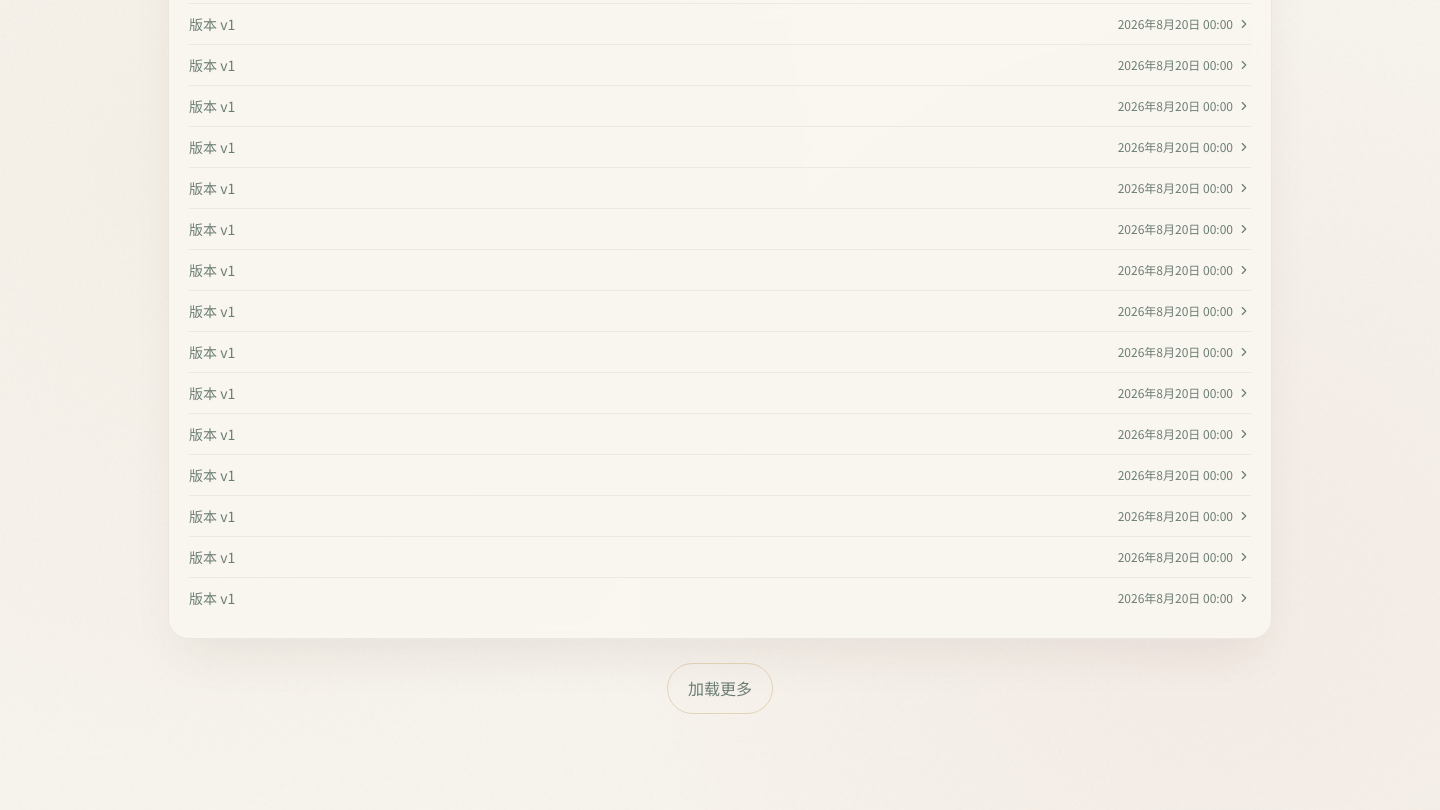
Scenario: PillsPage 金丹库存页 › 分页：有更多时展示「加载更多」，追加下一页并继续分组合并
This screenshot has width=1440, height=810.
(page scrolled)
Click the button "加载更多": (720, 688) [667, 663, 773, 714]
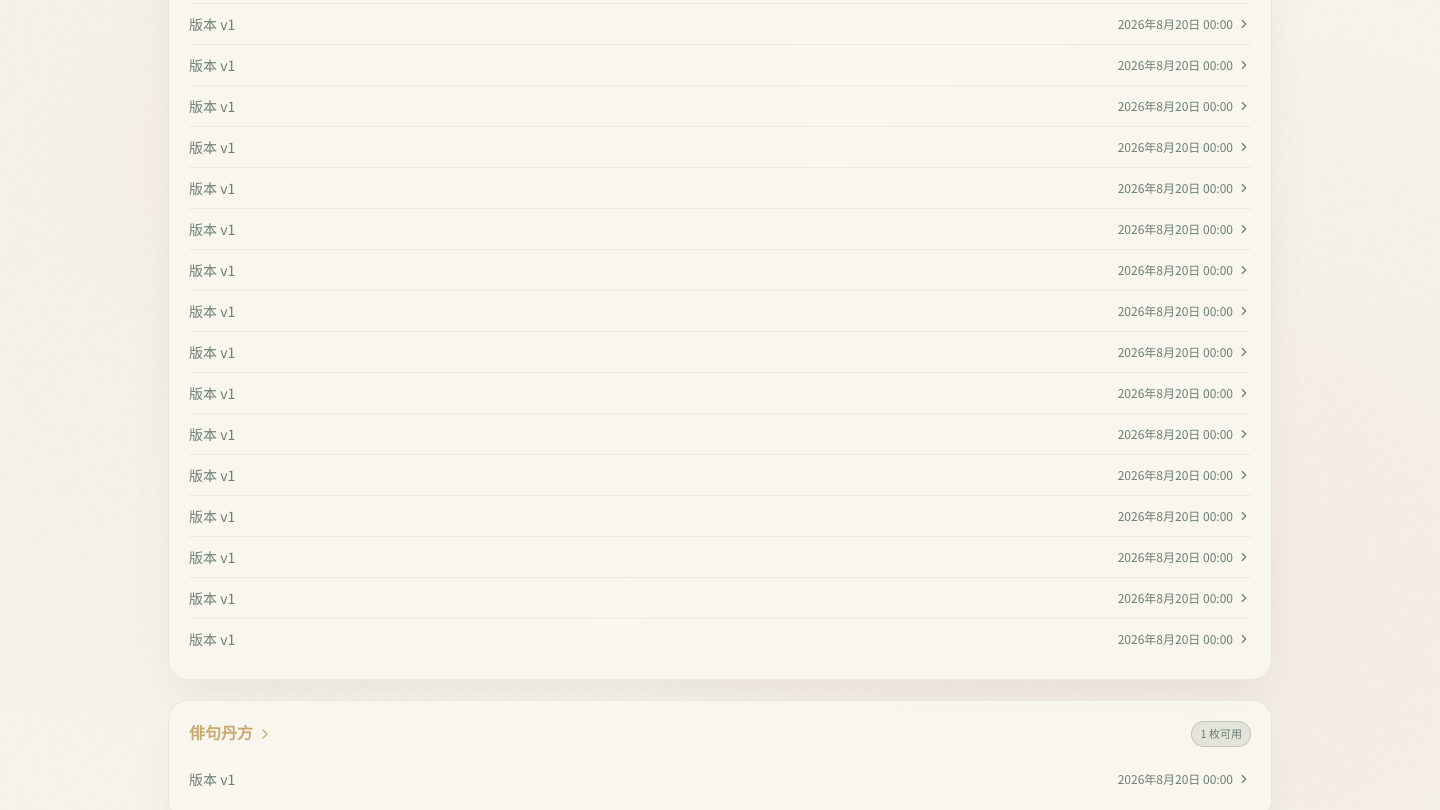
Result: the text "俳句丹方" is shown at [189, 722, 253, 746]
Result: the text "1 枚可用" is shown once at [1191, 721, 1251, 747]
